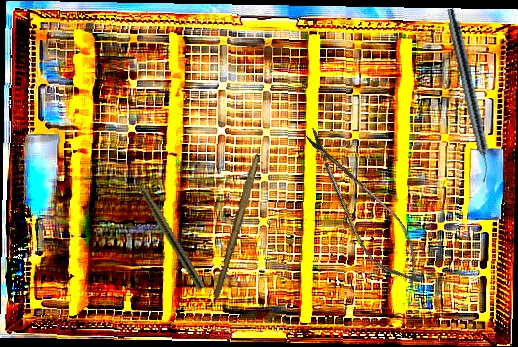Handpiece: (124, 163, 208, 292), (441, 7, 497, 183)
Micro Scissor: (286, 115, 439, 302)
Scalpel Handle: (212, 152, 261, 300)
